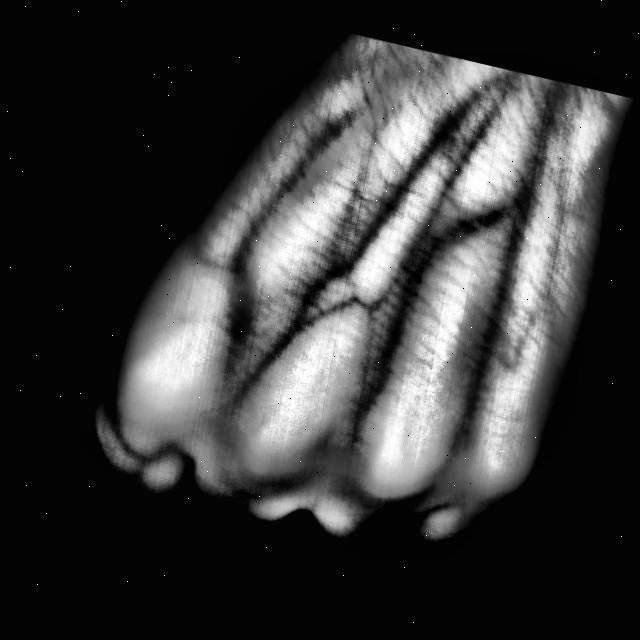Vein: (480, 96, 565, 339)
